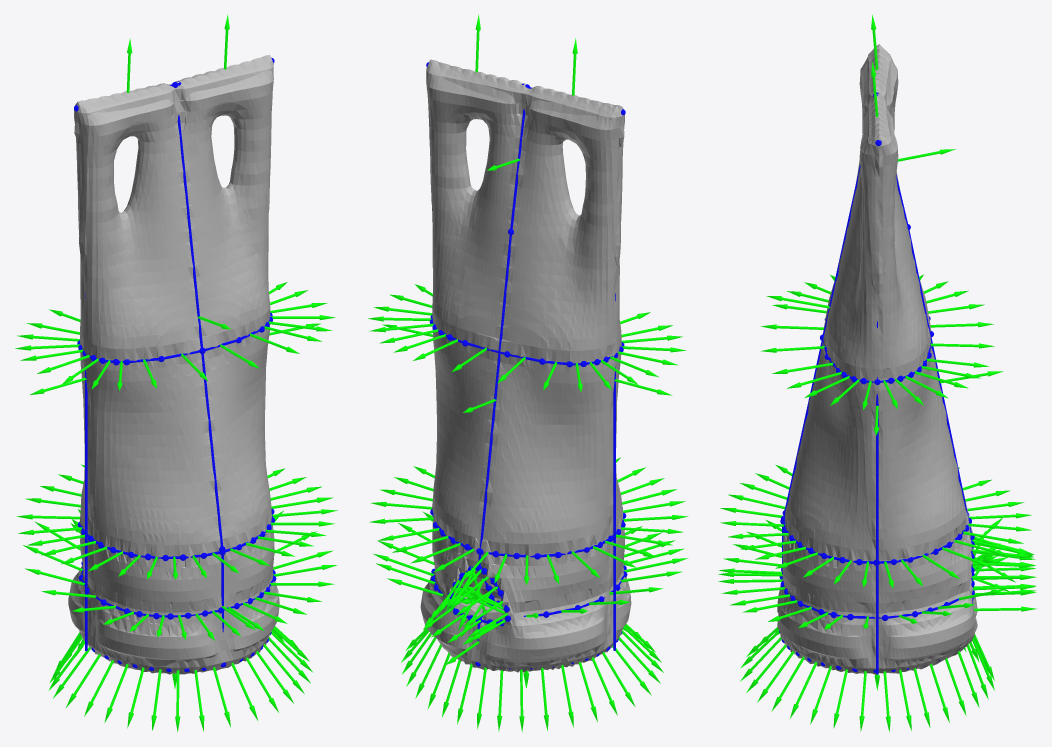
The model's file is t2f_toothpaste.gltf.
3 views of the same model, side by side, from view 1: azimuth 30°, elevation 25°; view 2: azimuth 150°, elevation 25°; view 3: azimuth 270°, elevation 25° (orthographic).
Bounding box in the file's own units: 0.5055 × 1.1 × 0.486.
